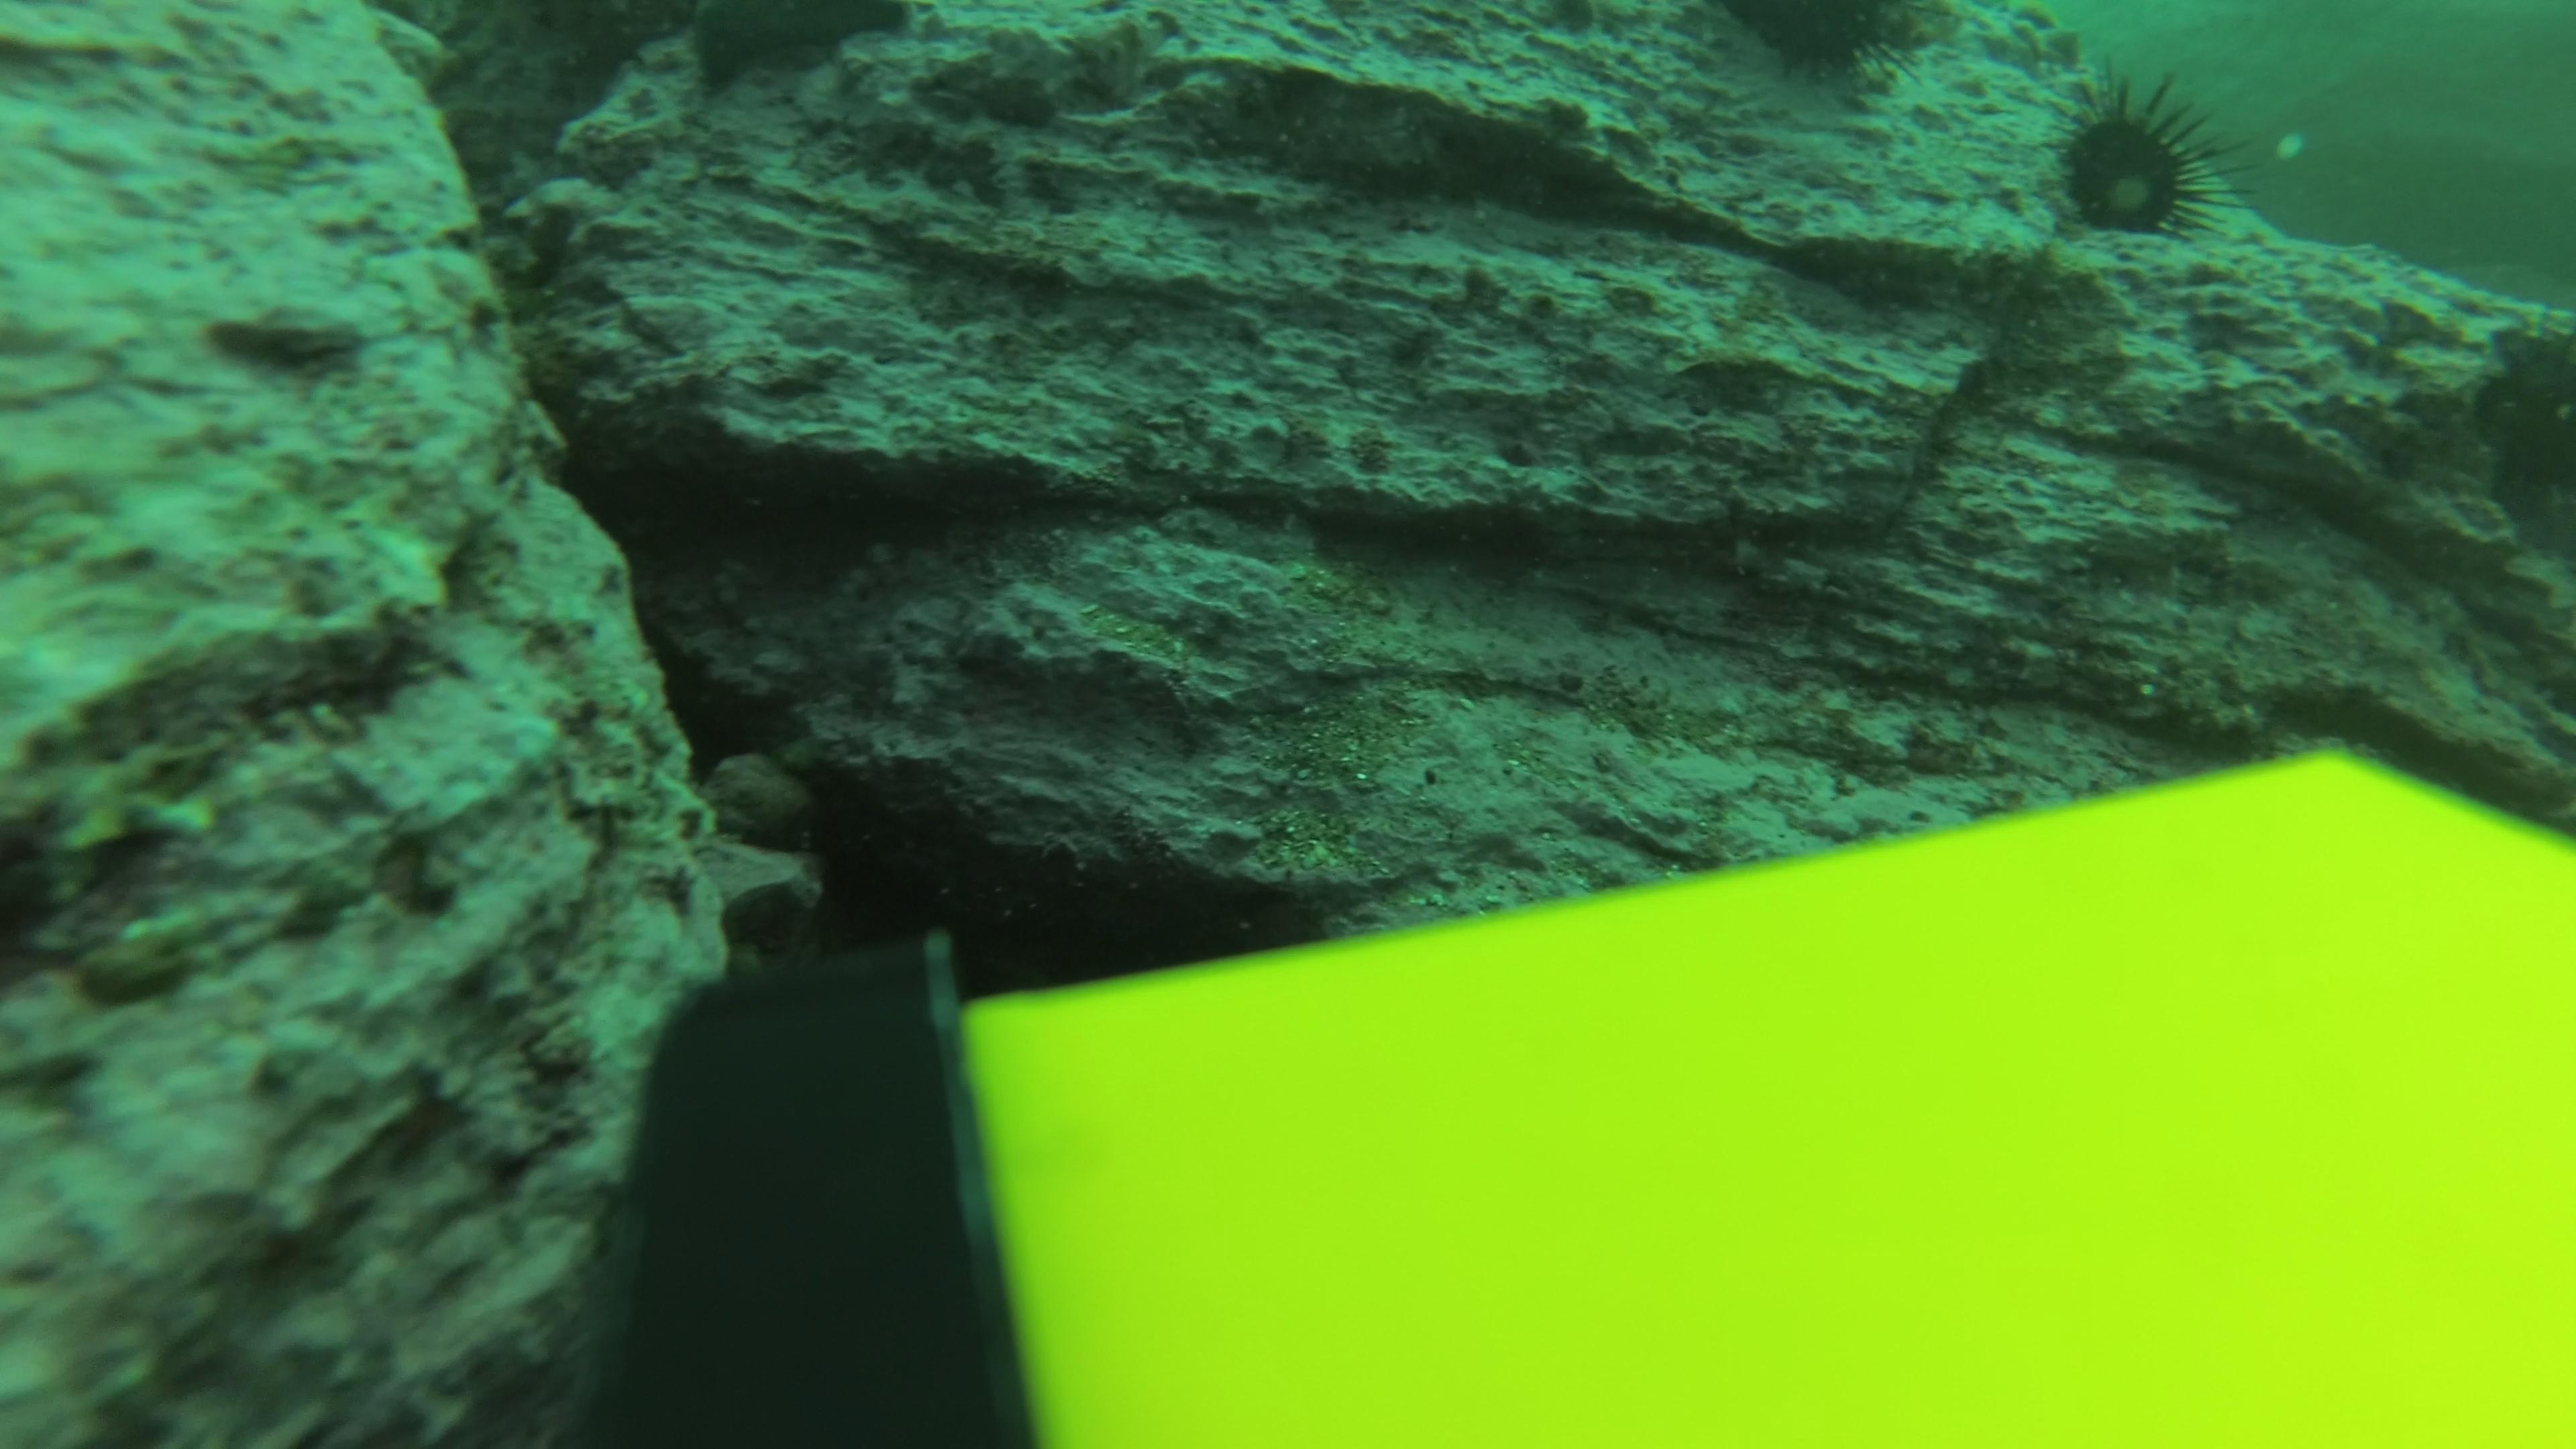echinus: (2038, 65, 2240, 249), (1704, 2, 1941, 103)
